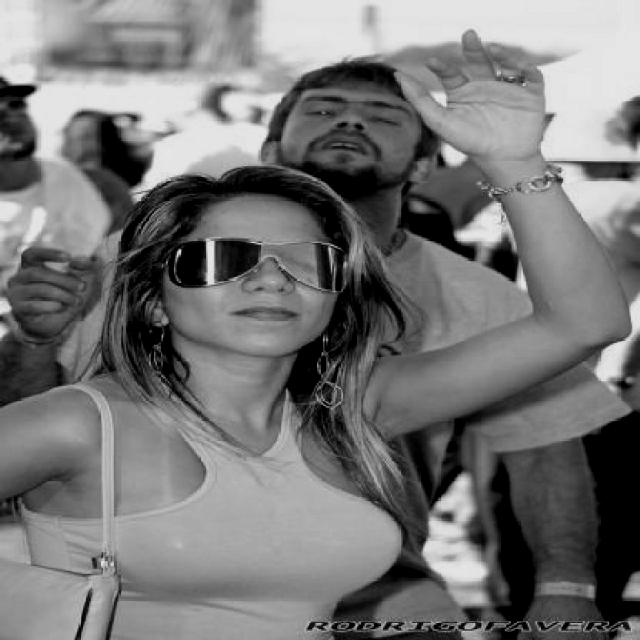face_nomask: (184, 236, 333, 330), (307, 96, 396, 164)
glasses: (179, 236, 338, 286)
hand_noglove: (387, 24, 561, 167), (3, 239, 97, 339)
head_nohelmet: (147, 170, 347, 228), (282, 50, 422, 95)
person: (36, 158, 404, 640)
